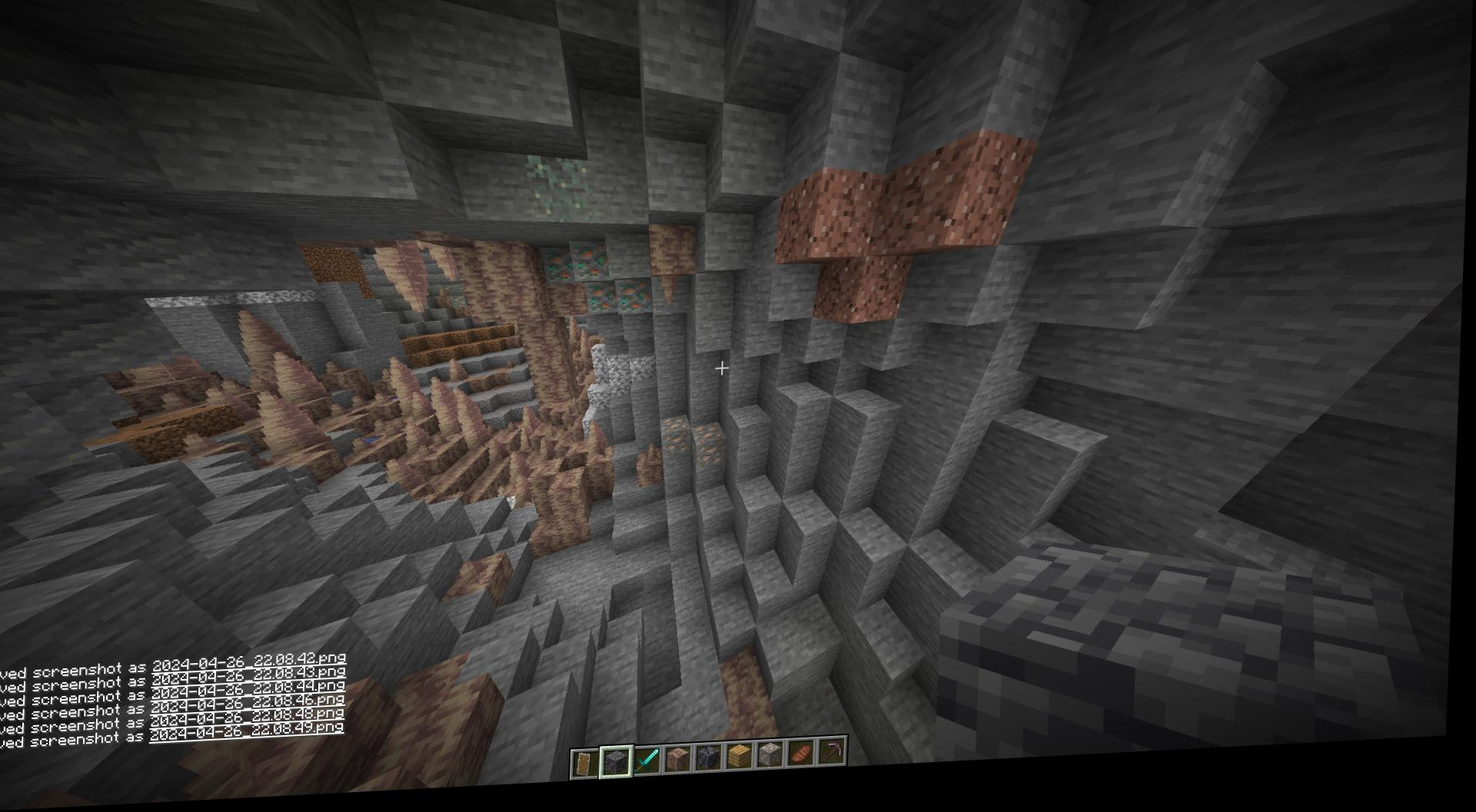iron ore: (697, 428, 735, 473), (662, 423, 696, 462)
